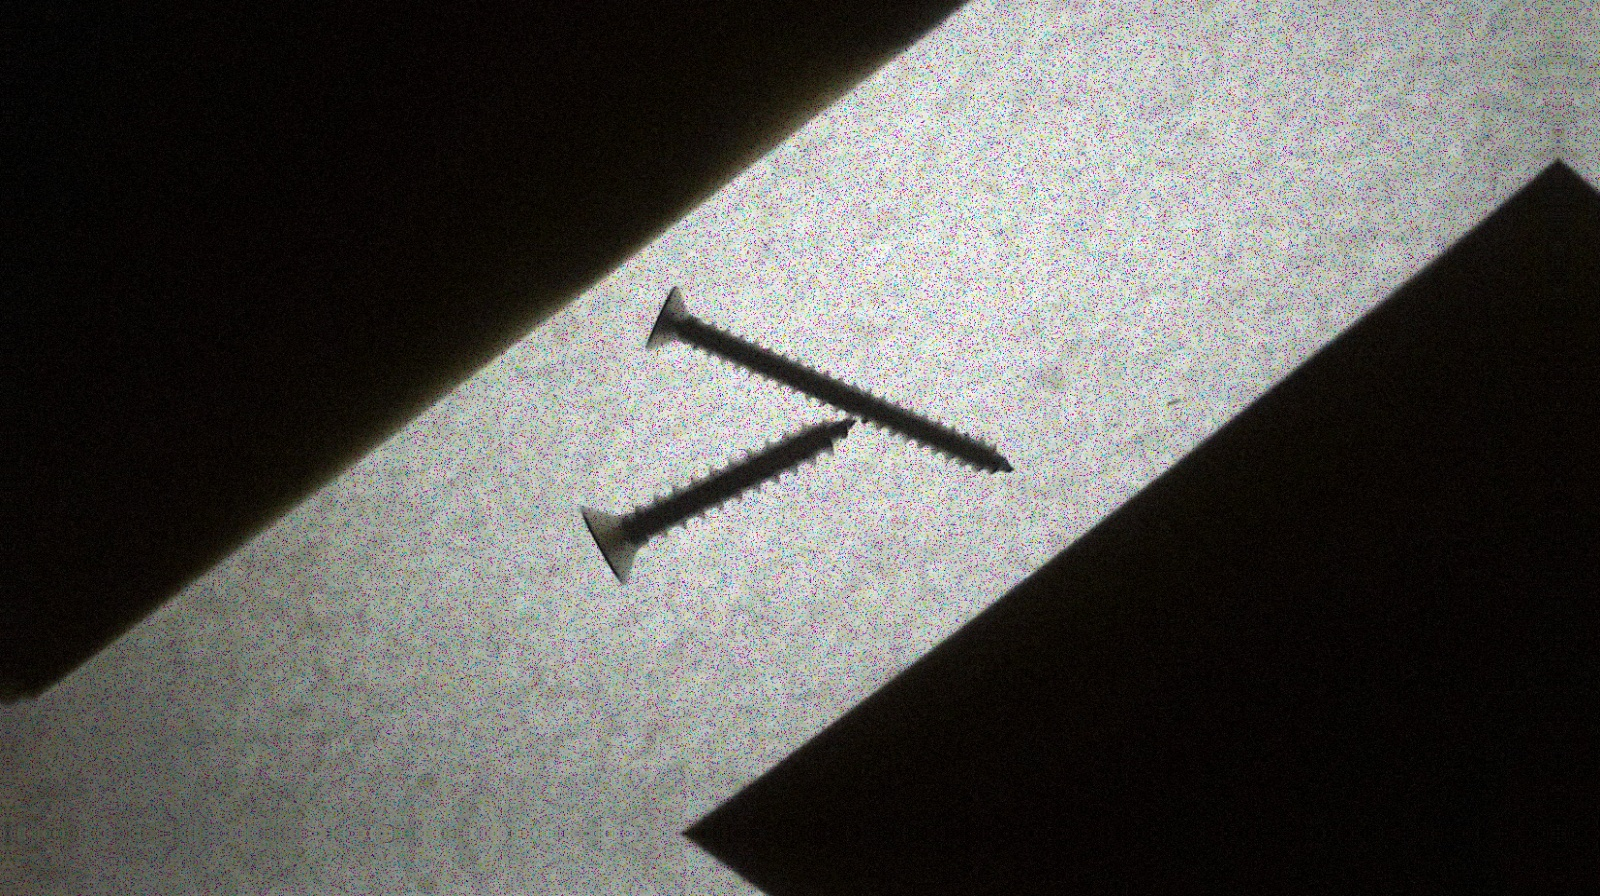S001: (574, 414, 862, 587)
S002: (643, 277, 1019, 477)
